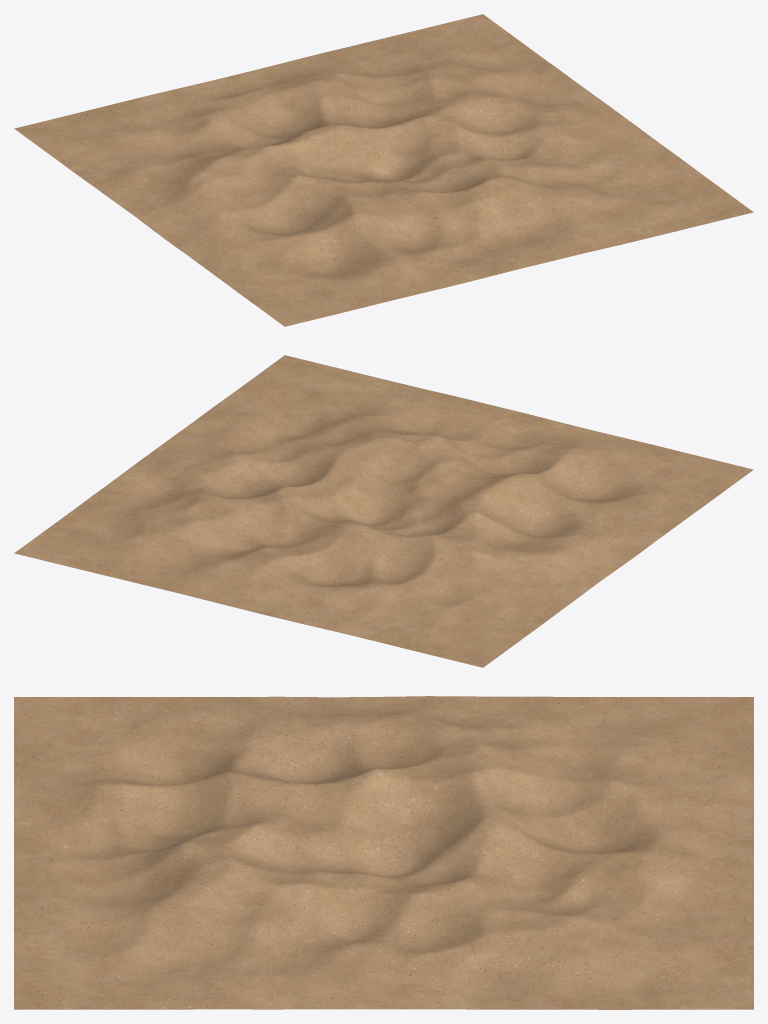
The model's file is ap_modular_wadi_desert_dunes.gltf.
3 renders of one model, top to bottom at view 1: azimuth 30°, elevation 25°; view 2: azimuth 150°, elevation 25°; view 3: azimuth 270°, elevation 25°, orthographic. The views are drawn at different scales.
Visible parts, largest first — view 1: ap_modular_wadi_desert_dunes; view 2: ap_modular_wadi_desert_dunes; view 3: ap_modular_wadi_desert_dunes.
Boxes of the visible parts, left/top/right/bottom form: ap_modular_wadi_desert_dunes: left=14, top=14, right=753, bottom=326; ap_modular_wadi_desert_dunes: left=14, top=355, right=753, bottom=667; ap_modular_wadi_desert_dunes: left=14, top=696, right=753, bottom=1009.
Size of the model in its own units: 52.3 by 3.21 by 52.3.
1 material, 1 textured.
